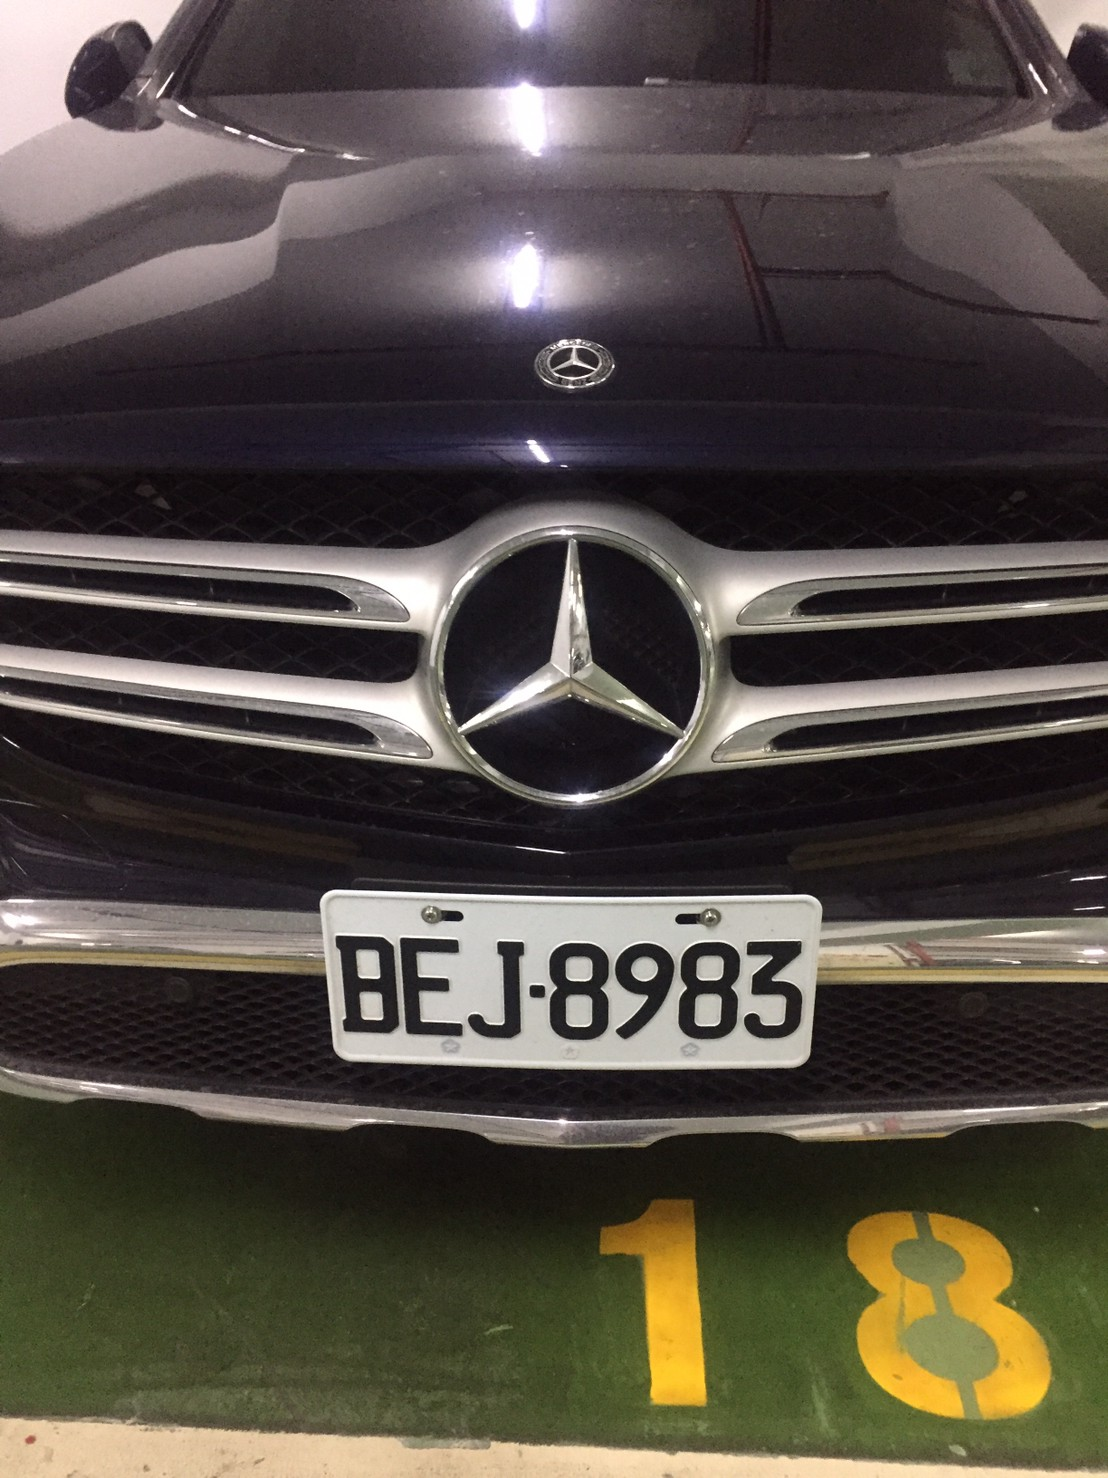LP: (313, 884, 824, 1075)
